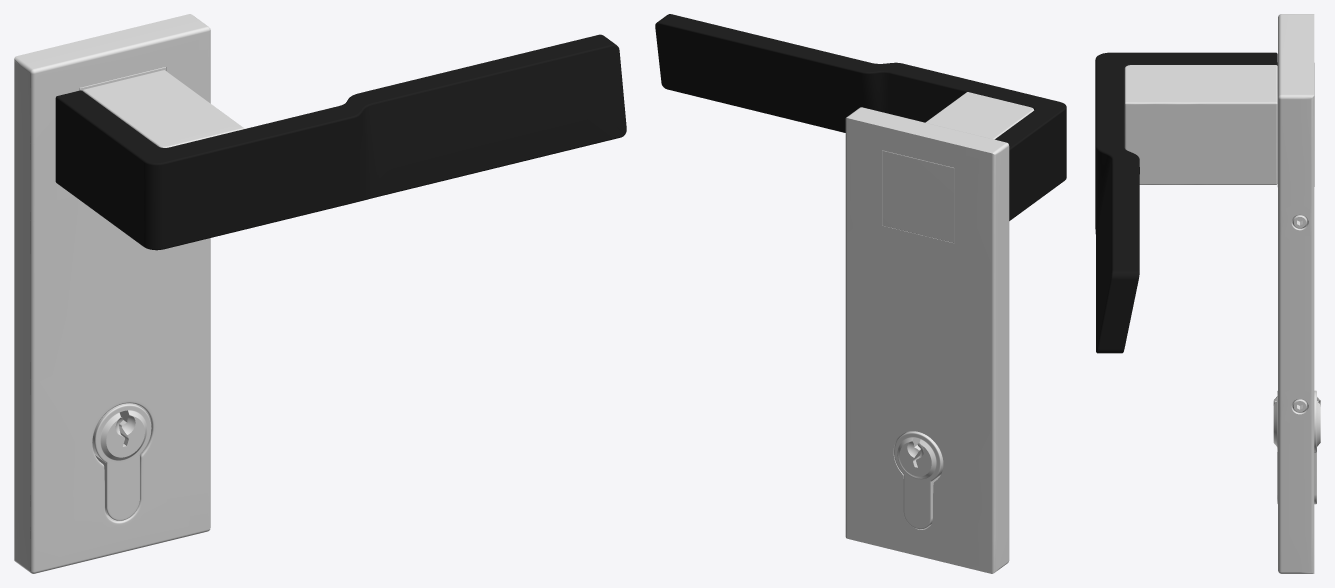
3 renders of one model, left to right at view 1: azimuth 30°, elevation 25°; view 2: azimuth 150°, elevation 25°; view 3: azimuth 270°, elevation 25°, orthographic. The views are drawn at different scales.
Parts seen in each view (by area): view 1: Godrej_7583; view 2: Godrej_7583; view 3: Godrej_7583.
Part boxes in pixels (x1=…): Godrej_7583: x1=14, y1=14, x2=626, y2=573; Godrej_7583: x1=655, y1=14, x2=1066, y2=573; Godrej_7583: x1=1095, y1=14, x2=1320, y2=573.
Bounding box in the file's own units: 0.1504 × 0.145 × 0.0618.
Materials: 1 (1 with a texture image).
